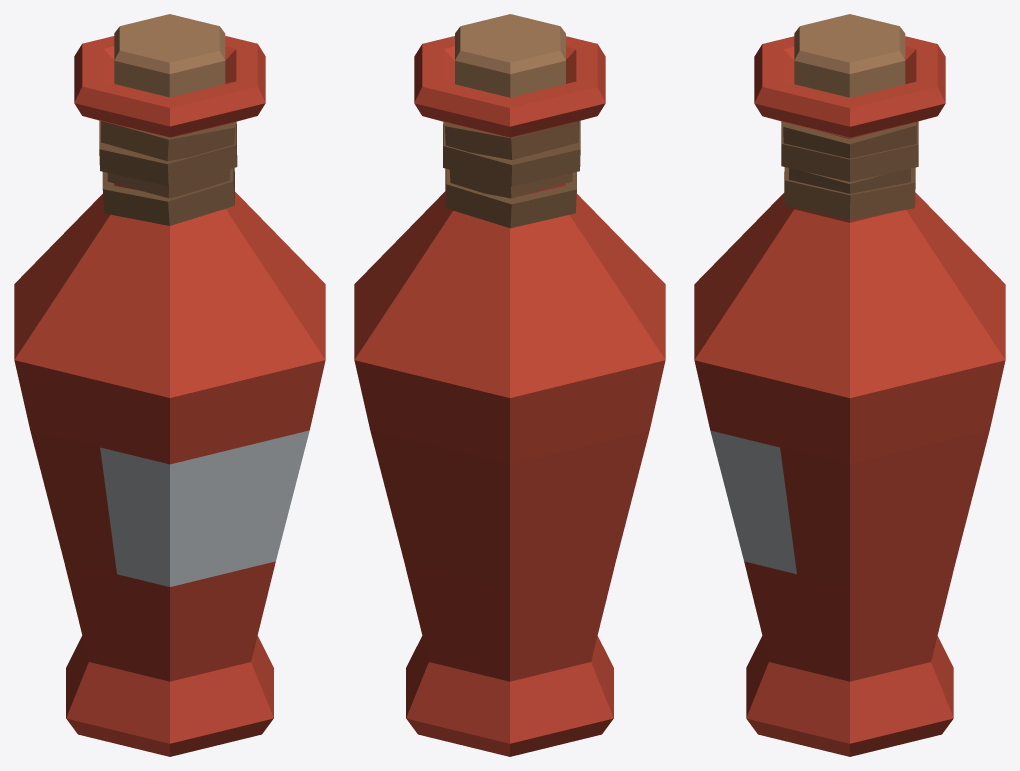
The model's file is Red_Potion_8(String+Label).fbx.
3 views of the same model, side by side, from view 1: azimuth 30°, elevation 25°; view 2: azimuth 150°, elevation 25°; view 3: azimuth 270°, elevation 25° (orthographic).
Parts seen in each view (by area): view 1: Red_Potion_8(String+Label); view 2: Red_Potion_8(String+Label); view 3: Red_Potion_8(String+Label).
Part boxes in pixels (<box>): Red_Potion_8(String+Label): <box>14,14,325,756</box>; Red_Potion_8(String+Label): <box>354,14,665,756</box>; Red_Potion_8(String+Label): <box>694,14,1005,756</box>.
Bounding box in the file's own units: 16.45 × 34.03 × 14.25.
